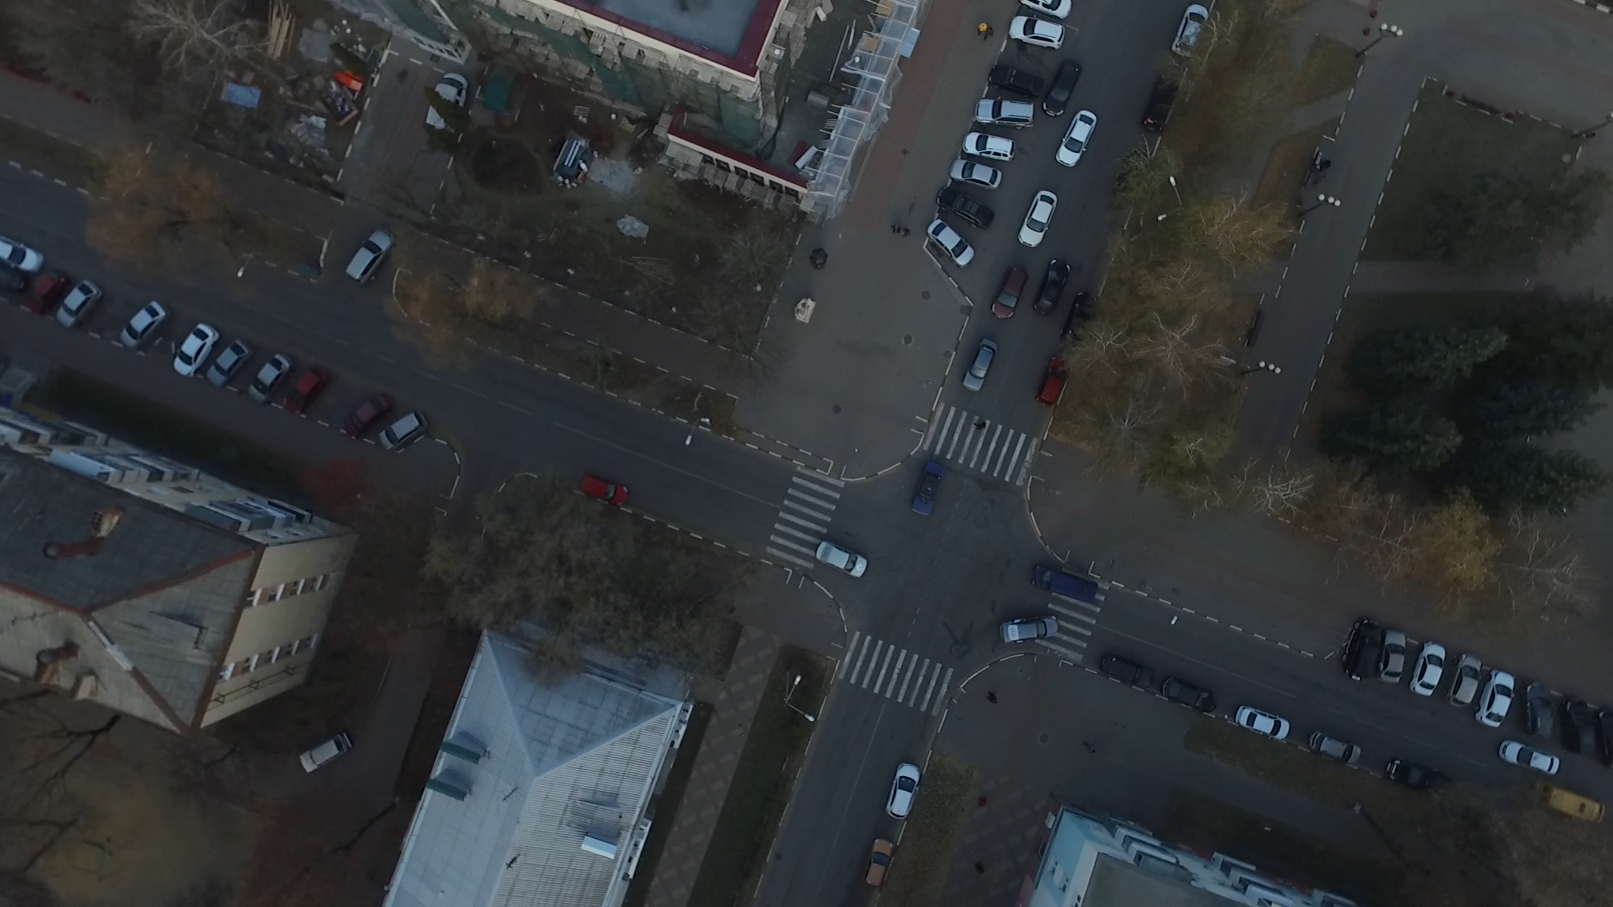car: (422, 71, 481, 132), (345, 230, 405, 285), (1028, 561, 1095, 610), (1388, 753, 1457, 798), (1534, 781, 1606, 821), (936, 186, 992, 237), (1338, 619, 1387, 677), (879, 762, 922, 826), (169, 320, 217, 378), (1496, 738, 1557, 781), (115, 297, 166, 348), (1471, 669, 1516, 726), (975, 95, 1036, 136), (987, 58, 1042, 102), (53, 279, 102, 329), (1141, 72, 1180, 133), (1007, 11, 1068, 50), (1235, 701, 1293, 742), (1041, 56, 1082, 114), (960, 338, 1005, 391), (927, 217, 972, 270), (1017, 190, 1058, 246), (902, 466, 946, 517), (1161, 676, 1218, 715), (1056, 109, 1096, 165), (342, 394, 399, 434), (1307, 726, 1362, 767), (1171, 1, 1212, 55), (583, 471, 634, 514), (811, 542, 863, 584), (245, 351, 287, 403), (960, 127, 1020, 164), (1374, 628, 1410, 687), (287, 365, 329, 416), (206, 337, 248, 388), (1406, 643, 1447, 695), (380, 413, 434, 452), (1062, 292, 1103, 343), (296, 734, 352, 771), (1036, 355, 1073, 410), (949, 154, 1000, 194), (1447, 653, 1484, 707), (997, 614, 1058, 646), (988, 266, 1028, 315), (1095, 653, 1151, 688), (859, 839, 898, 887), (1521, 680, 1550, 745), (23, 269, 66, 312), (1032, 262, 1070, 309), (1564, 698, 1592, 757), (1, 234, 43, 271), (1597, 707, 1613, 770), (1019, 1, 1072, 18)
